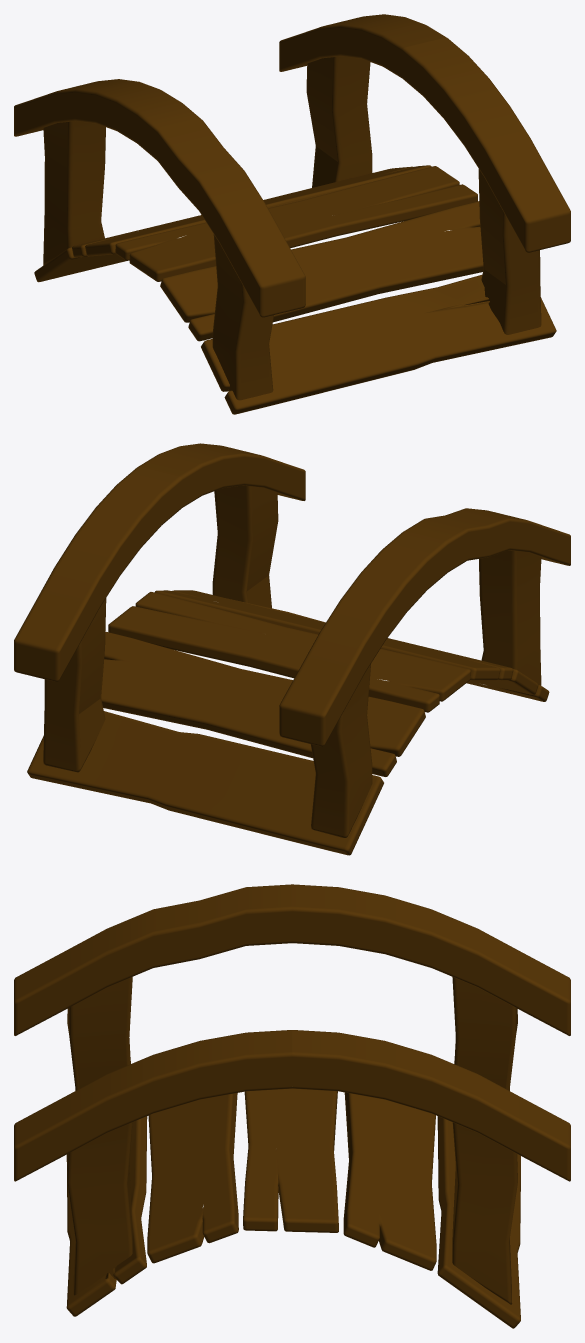
File: SM_Bruecke.fbx
The picture shows the model from 3 angles, top to bottom: view 1: azimuth 30°, elevation 25°; view 2: azimuth 150°, elevation 25°; view 3: azimuth 270°, elevation 25°; orthographic projection. The views are drawn at different scales.
Parts seen in each view (by area): view 1: Bruecke.001; view 2: Bruecke.001; view 3: Bruecke.001.
Part boxes in pixels (x1=…): Bruecke.001: x1=14, y1=14, x2=570, y2=414; Bruecke.001: x1=14, y1=443, x2=570, y2=855; Bruecke.001: x1=14, y1=884, x2=570, y2=1328.
Bounding box in the file's own units: 200 × 143 × 267.
